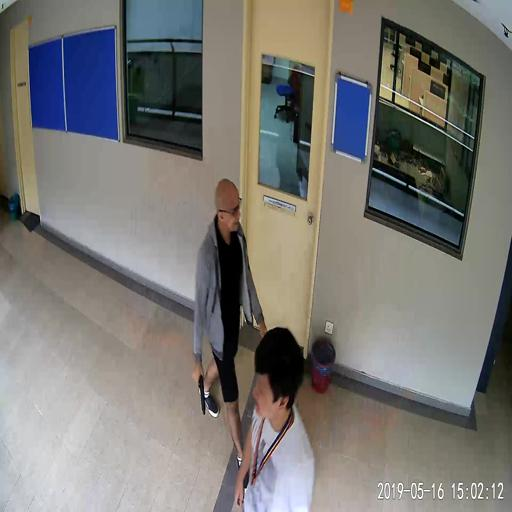pistol: (194, 371, 204, 413)
